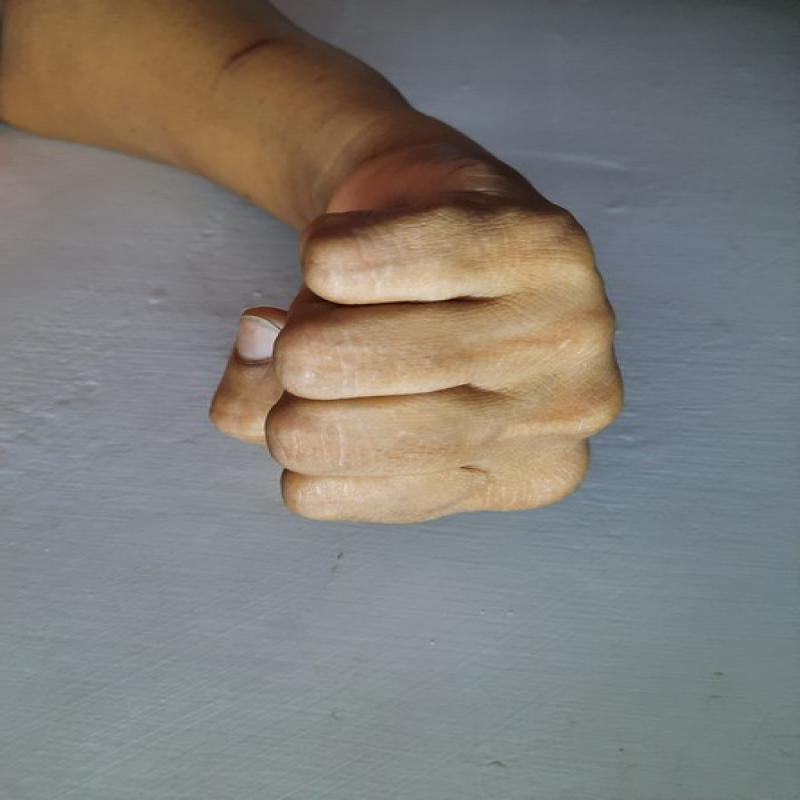Mushti: (199, 170, 633, 543)
